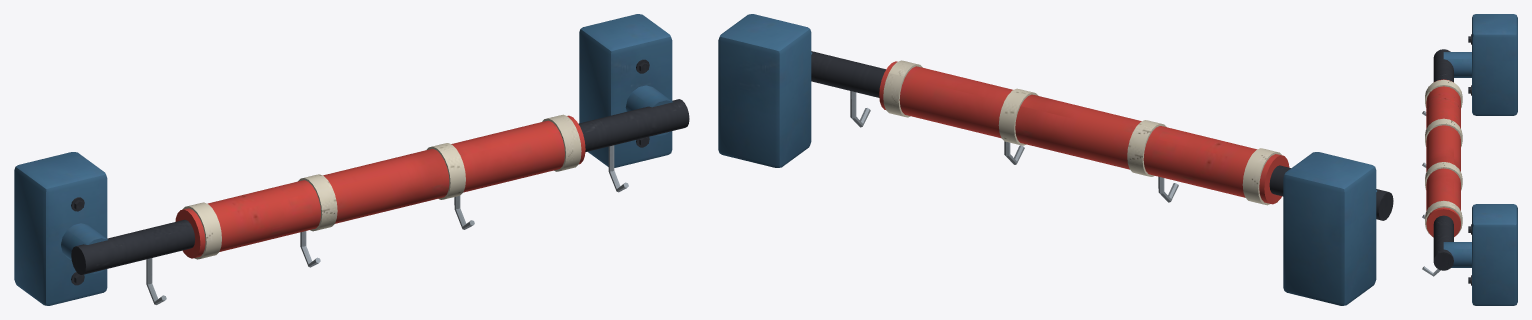
File: banner_holder.glb
The picture shows the model from 3 angles, left to right: view 1: azimuth 30°, elevation 25°; view 2: azimuth 150°, elevation 25°; view 3: azimuth 270°, elevation 25°; orthographic projection. The views are drawn at different scales.
Parts seen in each view (by area): view 1: BannerHolderMesh; view 2: BannerHolderMesh; view 3: BannerHolderMesh.
Boxes of the visible parts, x1,y1,x2,y2 form: BannerHolderMesh: (14,14,689,305); BannerHolderMesh: (718,14,1393,305); BannerHolderMesh: (1422,14,1517,305).
Size of the model in its own units: 0.98 by 0.18 by 0.1874.
Materials: 5 (5 with a texture image).
